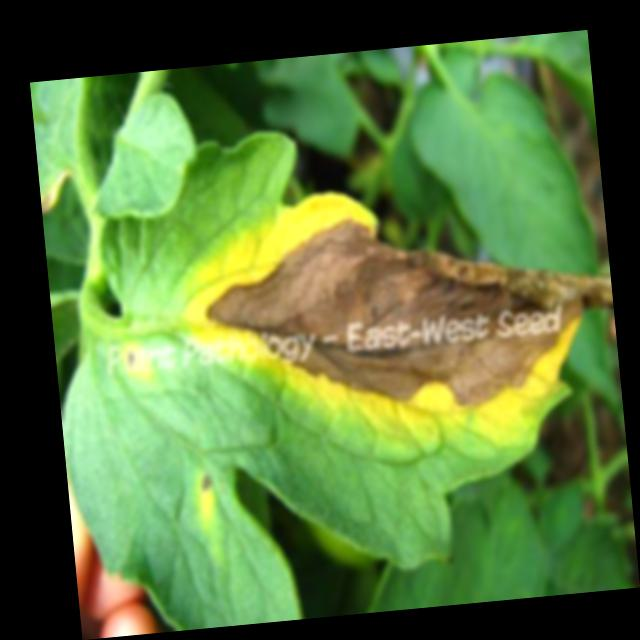Early_blight: (168, 167, 625, 469), (120, 345, 138, 372), (192, 471, 214, 491)
